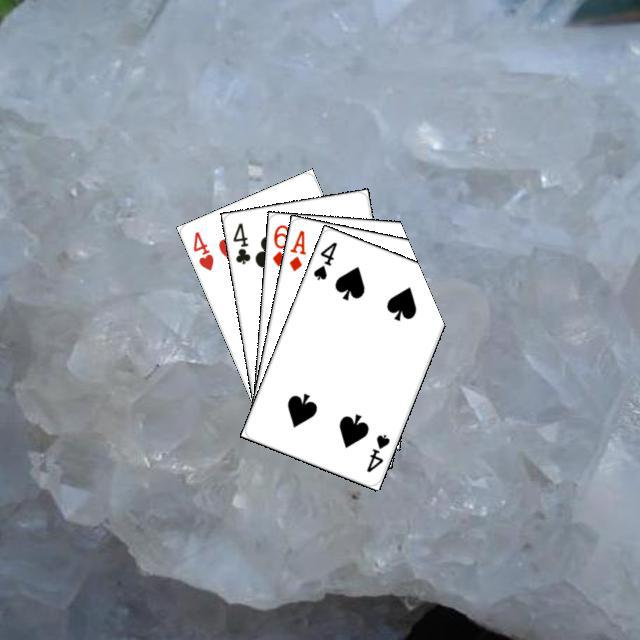4c: (228, 218, 252, 266)
4h: (188, 226, 215, 272)
4s: (308, 237, 339, 282), (361, 429, 391, 474)
6d: (268, 220, 290, 268)
Ad: (284, 225, 308, 273)
